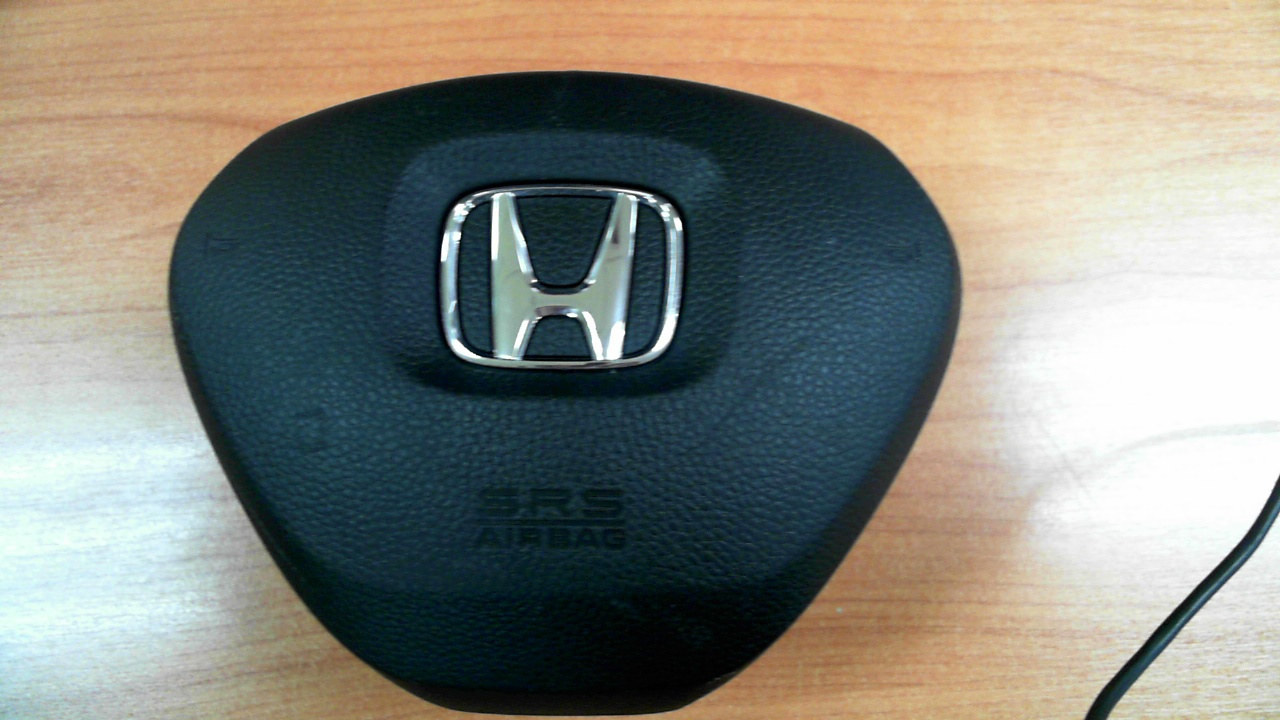Airbag: (167, 69, 962, 717)
Honda: (439, 186, 684, 370)
